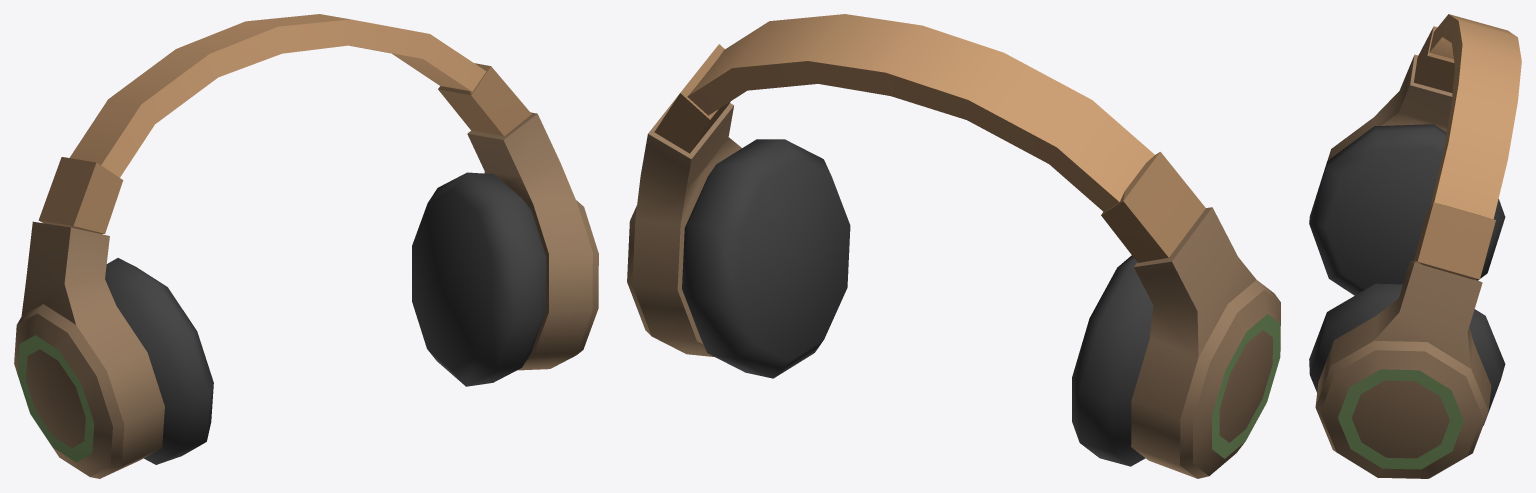
File: Headgear_27.fbx
3 views of the same model, side by side, from view 1: azimuth 30°, elevation 25°; view 2: azimuth 150°, elevation 25°; view 3: azimuth 270°, elevation 25° (orthographic). The views are drawn at different scales.
Visible parts, largest first — view 1: Headgear_27; view 2: Headgear_27; view 3: Headgear_27.
Part boxes in pixels (x1,y1,x2,y2): Headgear_27: [14, 14, 598, 478]; Headgear_27: [627, 14, 1280, 478]; Headgear_27: [1309, 14, 1521, 478].
Bounding box in the file's own units: 88.58 × 57.71 × 33.49.
